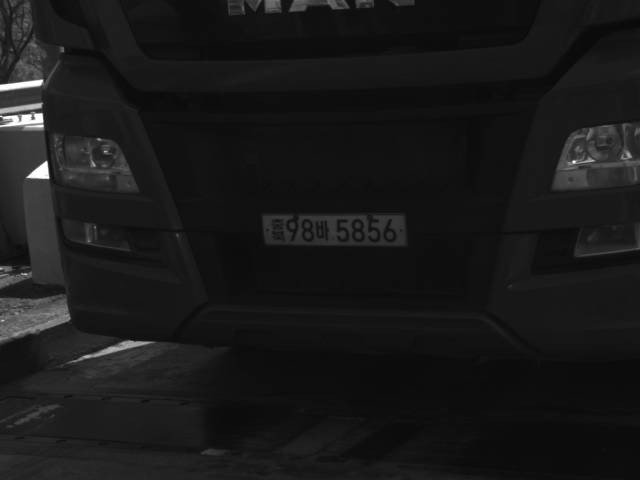car: (27, 1, 638, 368)
plate: (263, 210, 408, 249)
